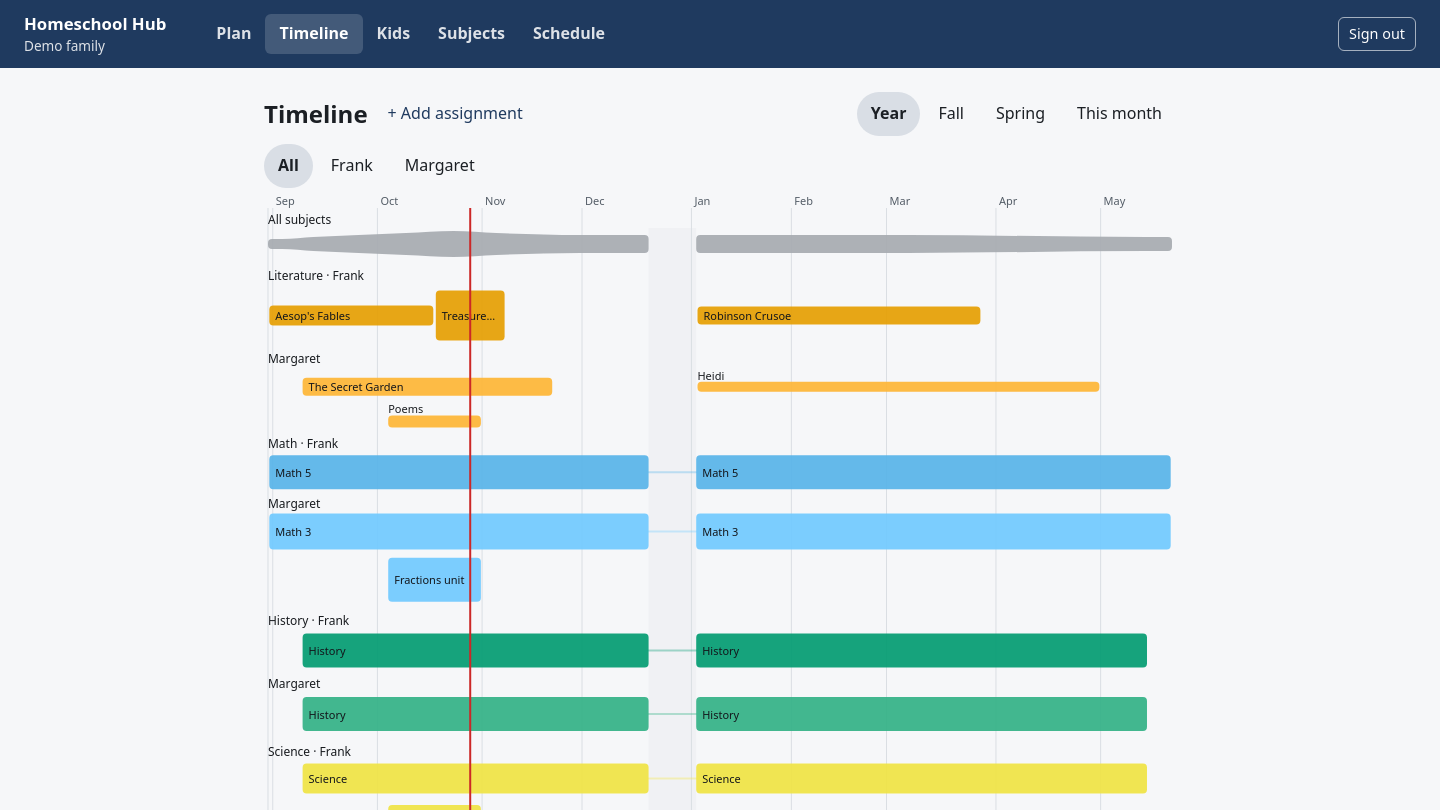
This month on the page › disables ‹ at the first month of the grid
What coordinates should you click on to do the following:
click the button "This month"
I would click on:
 (1120, 114)
Its box is [1063,92,1176,136].
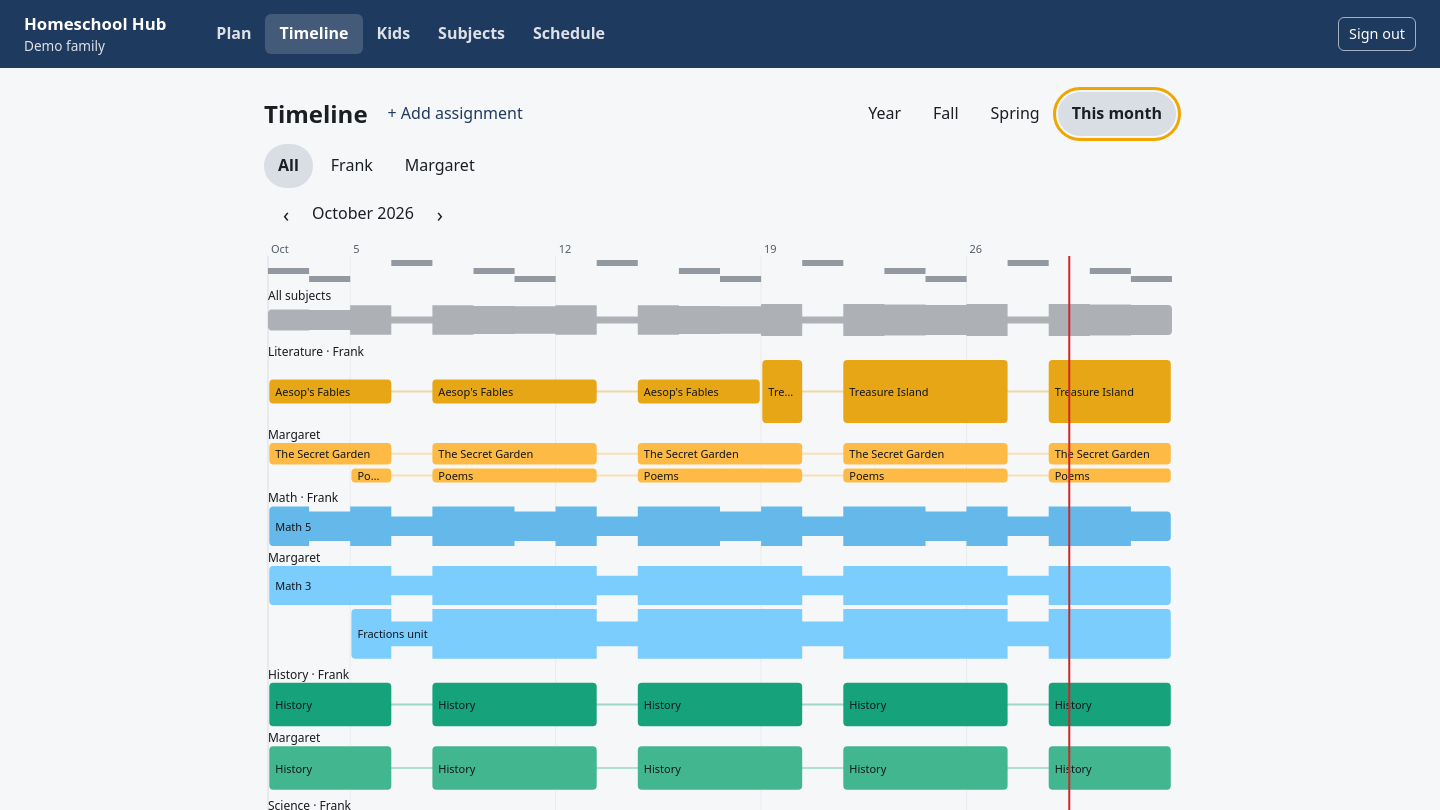
What coordinates should you click on to do the following:
click the button named "Previous month"
I would click on:
 (286, 214)
Its box is [264,192,308,236].
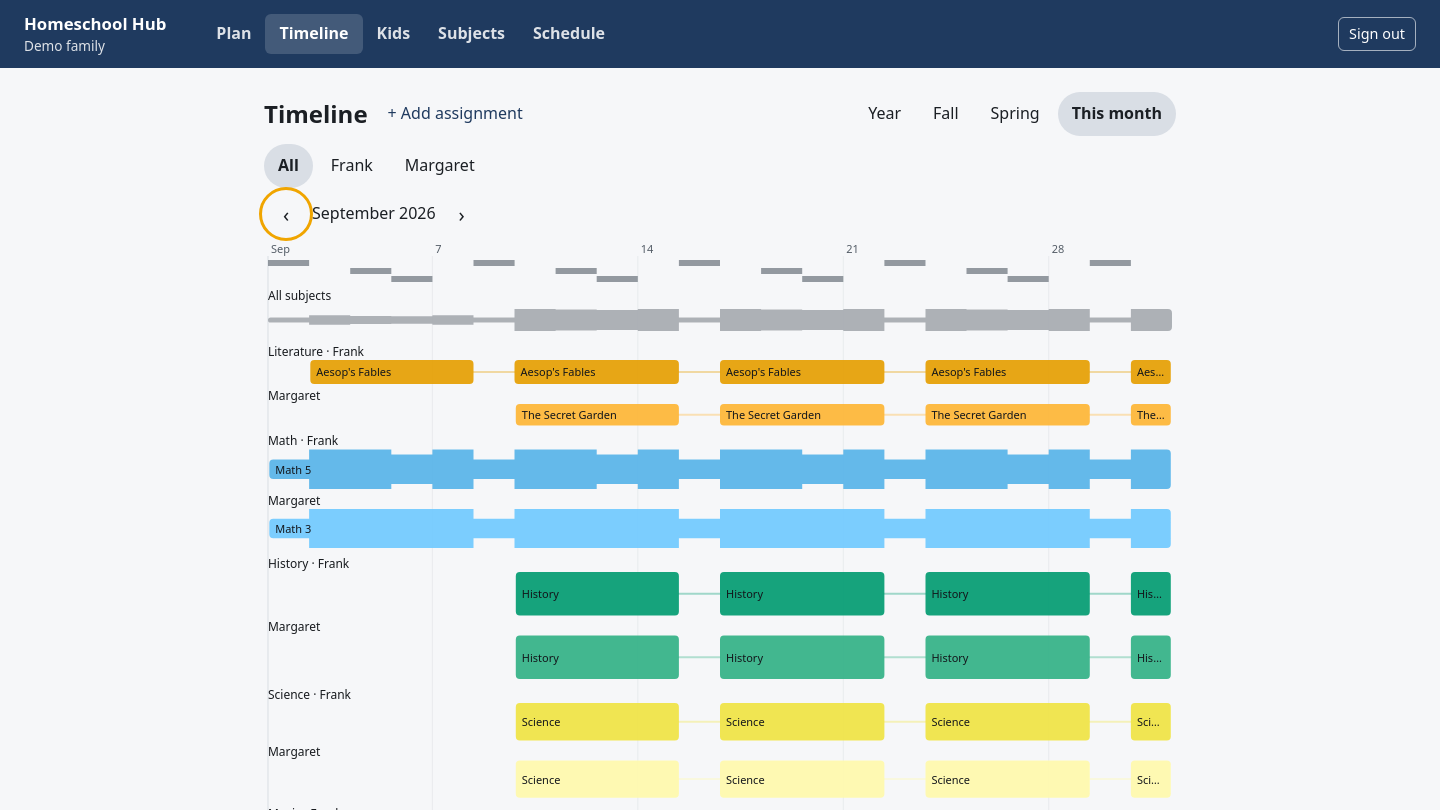
What coordinates should you click on to do the following:
click the button named "Previous month"
I would click on:
 (286, 214)
Its box is [264,192,308,236].
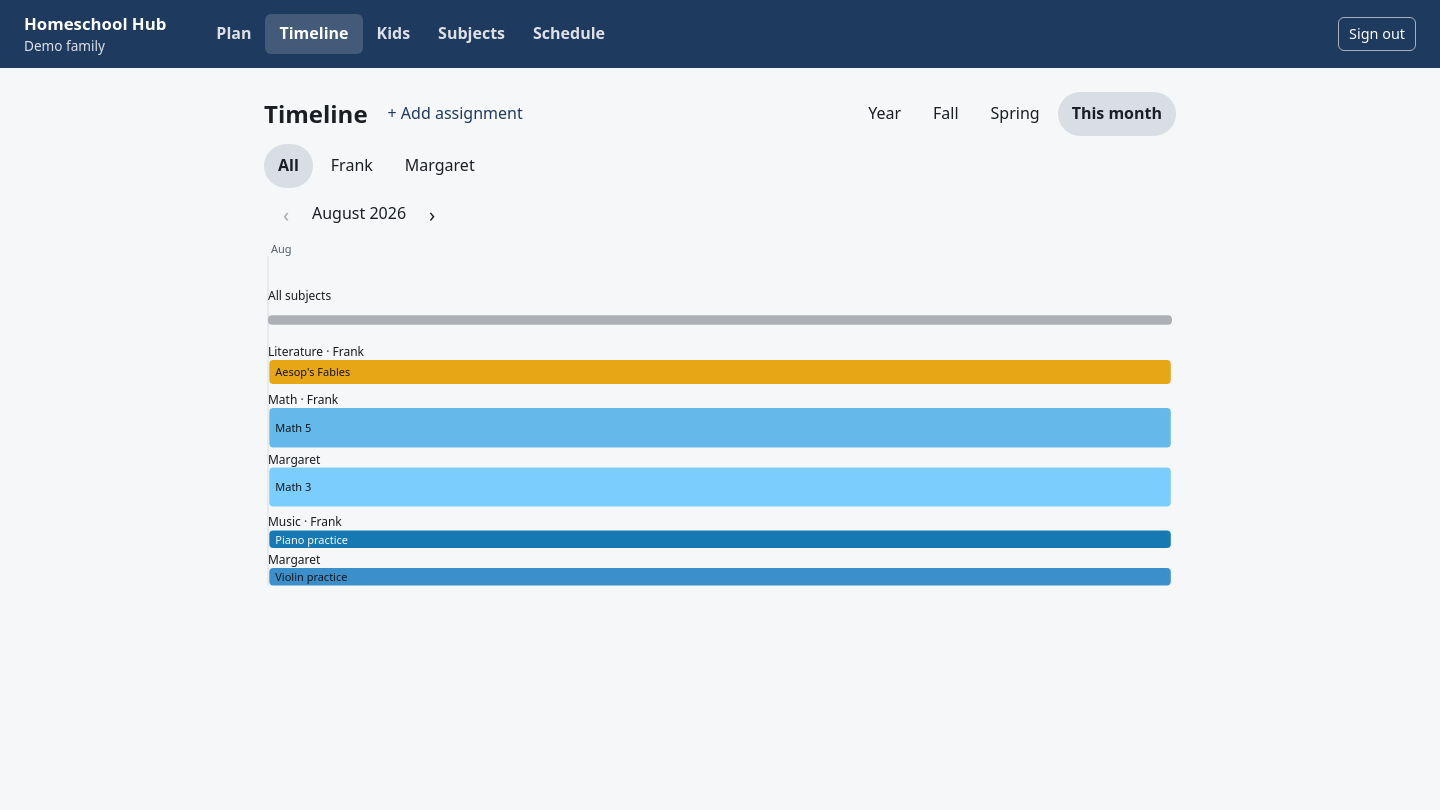
Result: the button named "Next month" is enabled at [410,192,454,236]
Result: the button named "Previous month" is disabled at [264,192,308,236]
